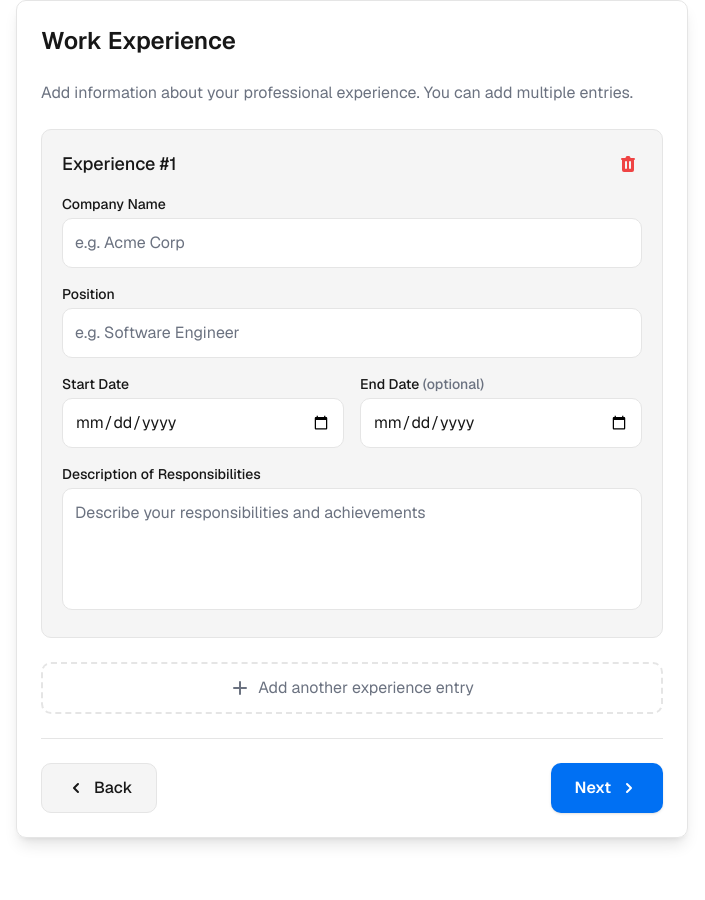
Test: WorkExpForm Component › Zarządzanie listą (FieldArray) › powinien pozwolić dodać kolejny wpis o doświadczeniu
Click the button "Add another experience entry" at point(352, 688), box [41,662,663,714]
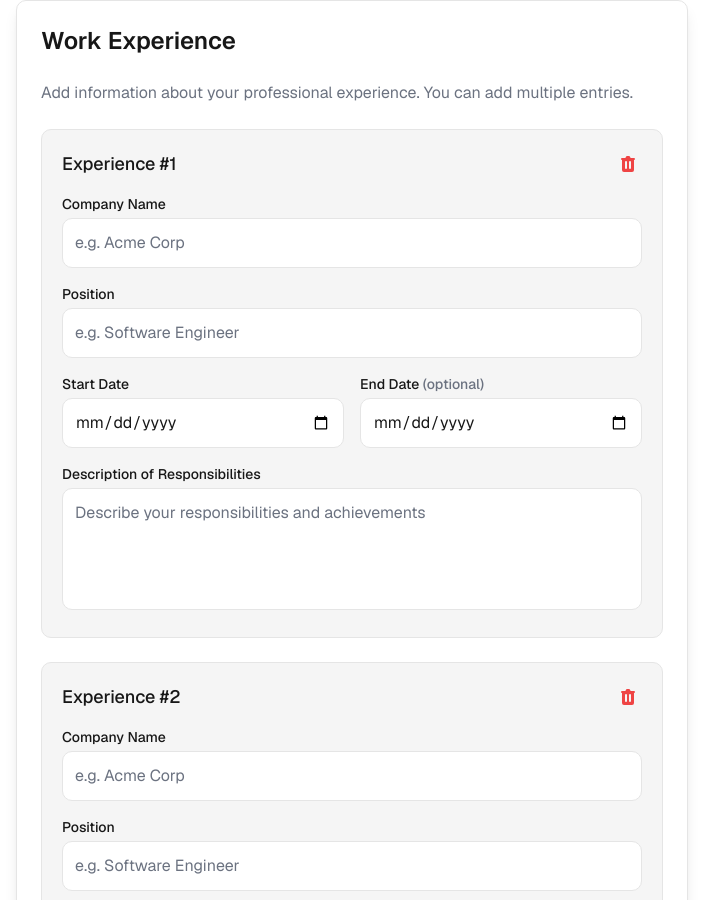
Expected: the heading "Experience #1" is shown, [62,150,176,178]
Result: the heading "Experience #2" is shown at [62,683,180,711]
